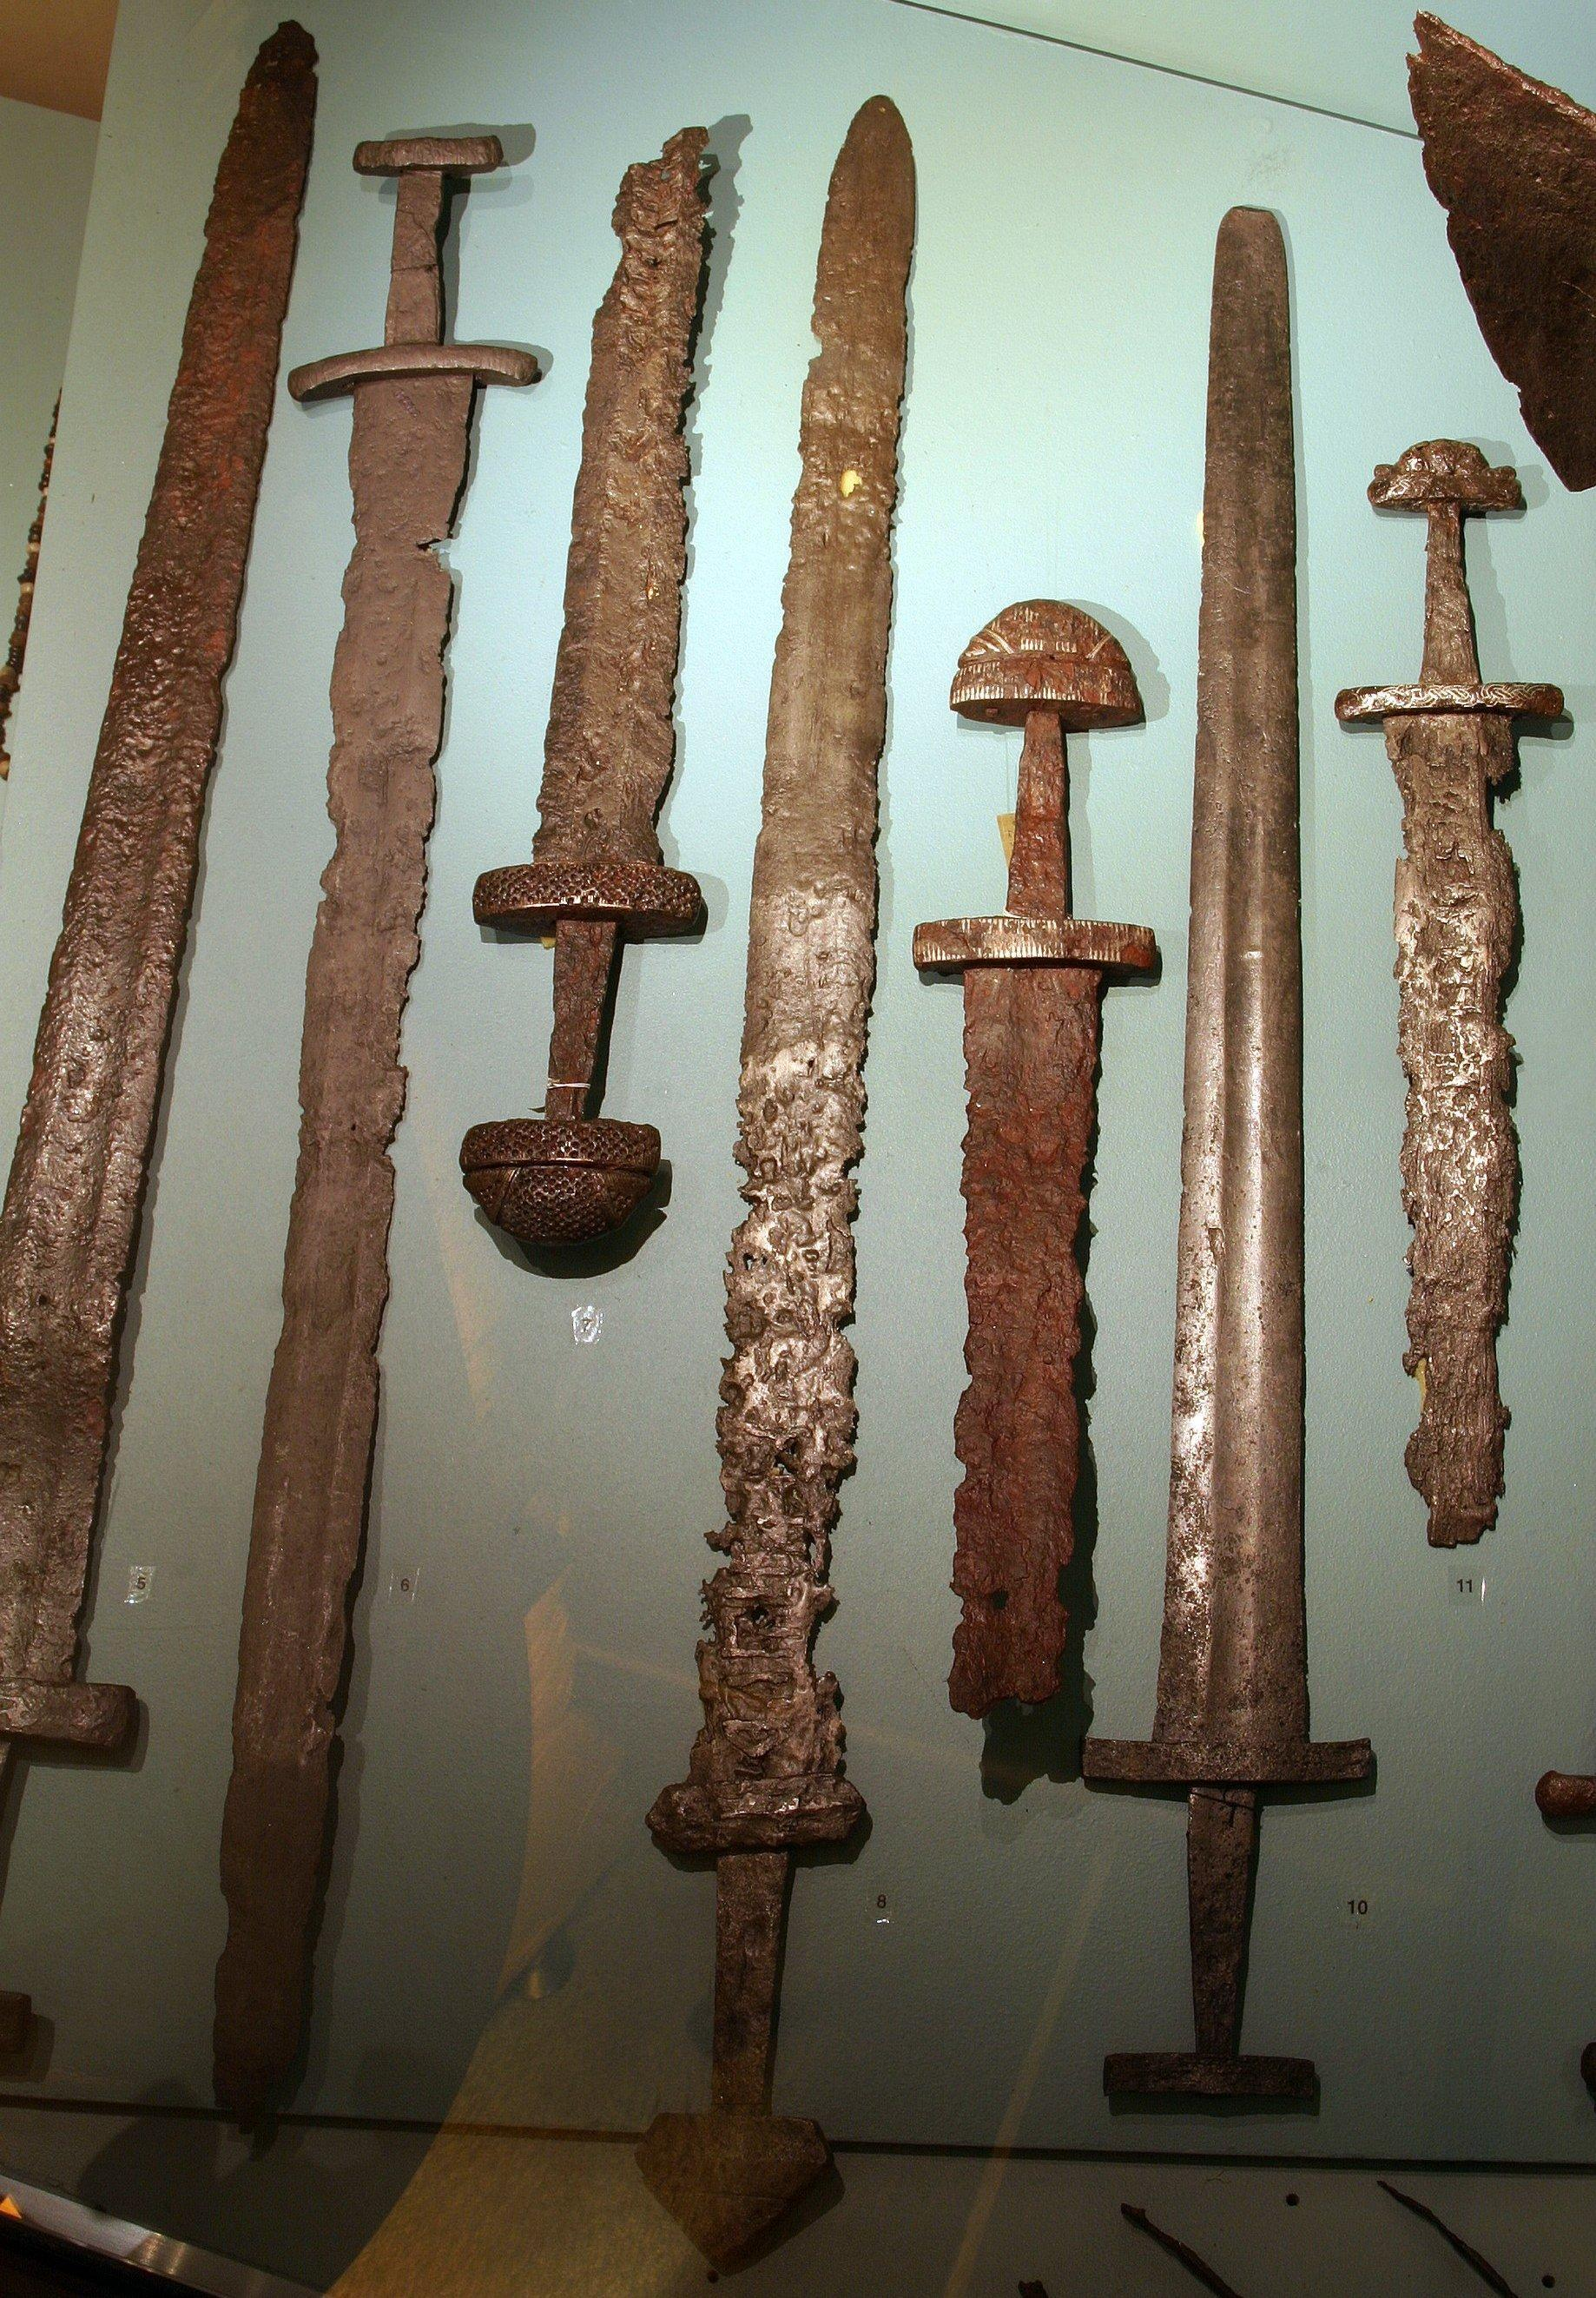espada: (191, 98, 480, 2202), (1089, 171, 1367, 2180), (677, 69, 894, 2247), (17, 23, 202, 2001), (891, 576, 1134, 1824), (498, 87, 669, 1337), (1358, 400, 1542, 1531)
